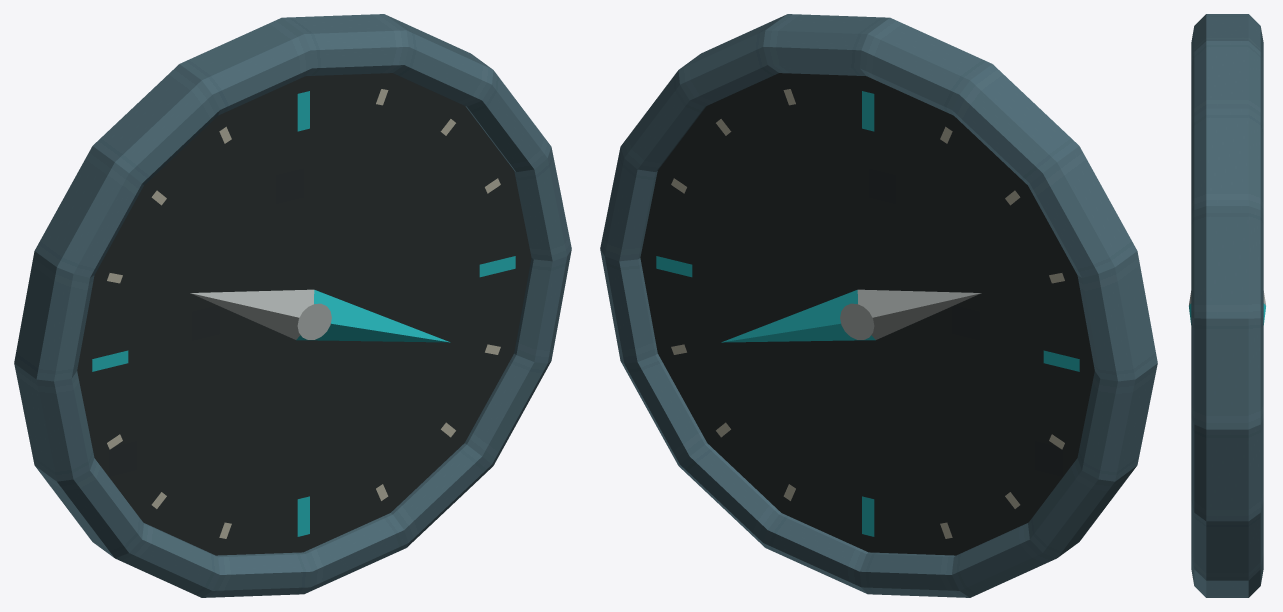
Rendered from recovery_compass_26.obj.
3 renders of one model, left to right at view 1: azimuth 30°, elevation 25°; view 2: azimuth 150°, elevation 25°; view 3: azimuth 270°, elevation 25°, orthographic. The views are drawn at different scales.
Bounding box in the file's own units: 0.6037 × 0.6037 × 0.085.
